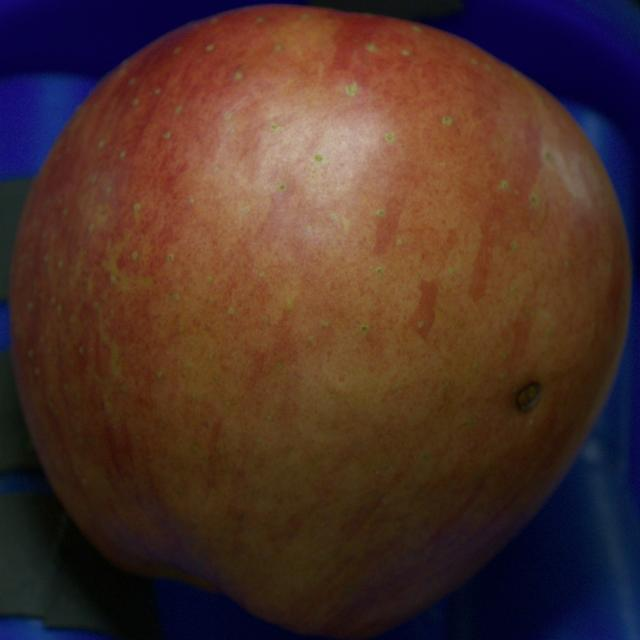apple: (8, 6, 631, 638)
pest: (516, 381, 541, 412)
